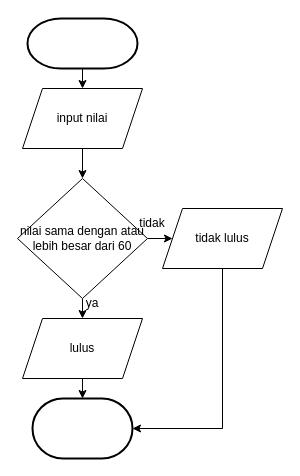
This 300x476 diagram has some shape labels left out. Each missing label, with the centre of its shape:
mulai: the point at 82,43
selesai: the point at 82,428
